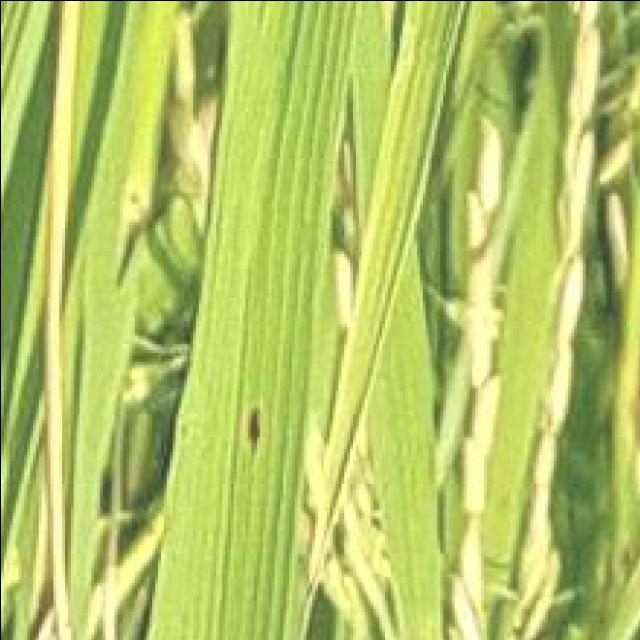Brown_Spot: (230, 398, 280, 468)
